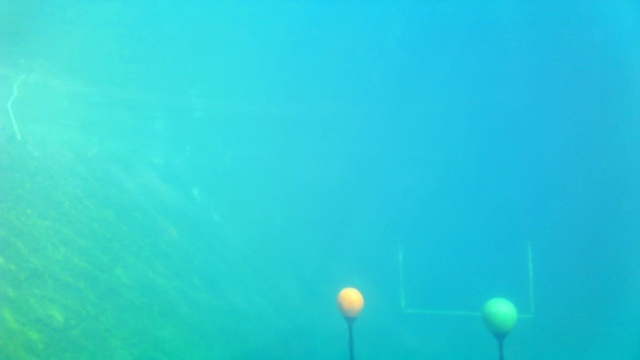buoy_green: (479, 295, 519, 348)
buoy_red: (335, 286, 367, 324)
